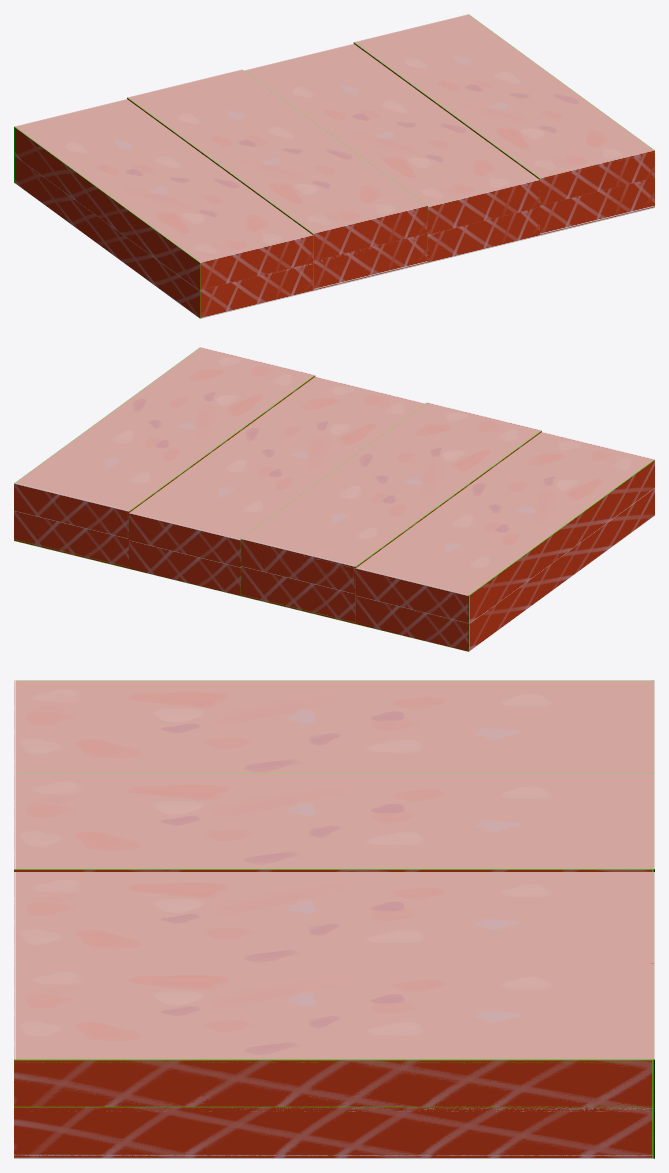
The model's file is hams.FBX.
3 renders of one model, top to bottom at view 1: azimuth 30°, elevation 25°; view 2: azimuth 150°, elevation 25°; view 3: azimuth 270°, elevation 25°, orthographic. The views are drawn at different scales.
Visible parts, largest first — view 1: 햄; view 2: 햄; view 3: 햄.
Part boxes in pixels (x1,y1,x2,y2): 햄: (14,14,654,318); 햄: (14,347,654,651); 햄: (14,680,654,1158).
Size of the model in its own units: 15.4 by 1.86 by 10.92.
